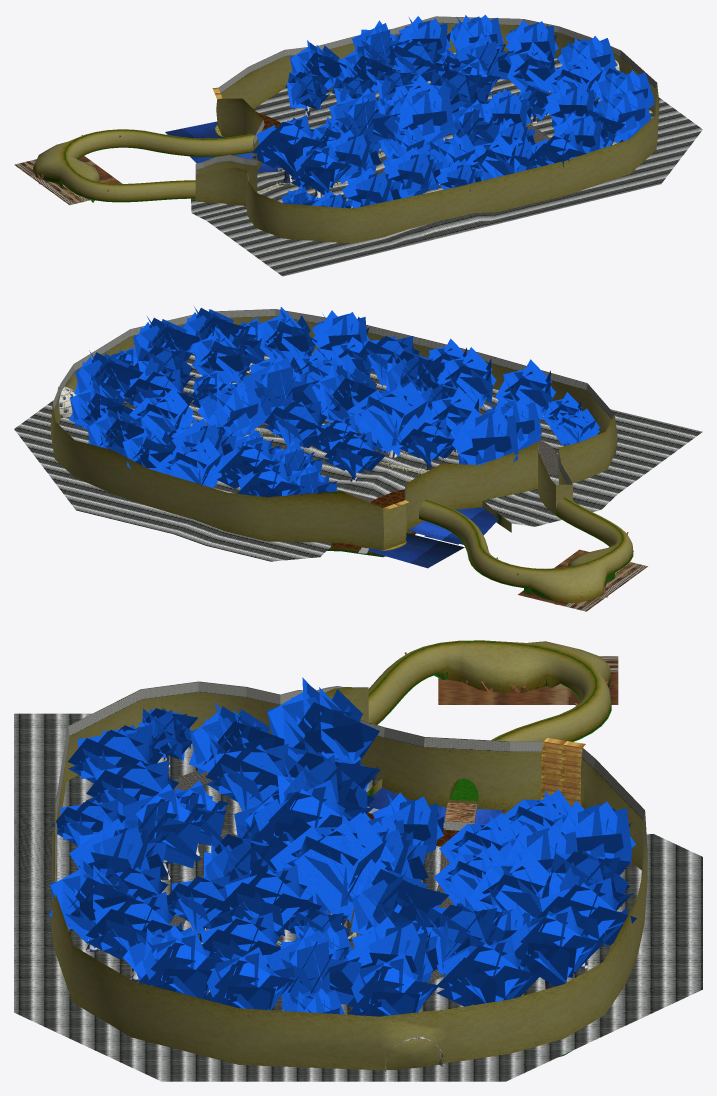
File: cotton.obj
The picture shows the model from 3 angles, top to bottom: view 1: azimuth 30°, elevation 25°; view 2: azimuth 150°, elevation 25°; view 3: azimuth 270°, elevation 25°; orthographic projection. The views are drawn at different scales.
Visible parts, largest first — view 1: Tex023, poly_wallR, poly_grass, wallkiwa, water0, water; view 2: Tex023, poly_wallR, poly_grass, wallkiwa, water, water0, poly_road, poly_sand; view 3: Tex023, poly_wallR, poly_grass, wallkiwa, water0, Vtaki, poly_road, poly_jari, water.
Boxes of the visible parts, x1,y1,x2,y2 form: Tex023: (252,14,654,208); poly_wallR: (32,23,659,243); poly_grass: (191,51,702,276); wallkiwa: (195,16,656,181); water0: (14,156,122,205); water: (165,121,281,171); Tex023: (69,306,599,497); poly_wallR: (50,316,632,604); poly_grass: (14,353,702,561); wallkiwa: (53,309,614,500); water: (368,507,498,568); water0: (518,549,647,611); poly_road: (206,422,558,502); poly_sand: (331,489,416,556); Tex023: (49,677,636,1016); poly_wallR: (51,640,647,1070); poly_grass: (14,713,702,1081); wallkiwa: (54,681,645,881); water0: (438,656,618,704); Vtaki: (541,737,585,807); poly_road: (168,770,454,982); poly_jari: (376,672,611,801); water: (368,787,505,824).
Bounding box in the file's own units: 103787 × 14280 × 69804.
